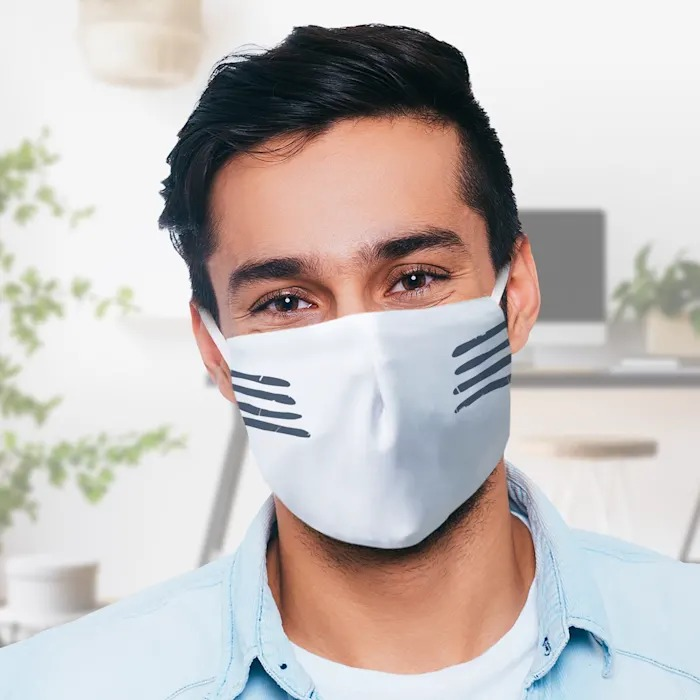with_mask: (183, 131, 532, 554)
